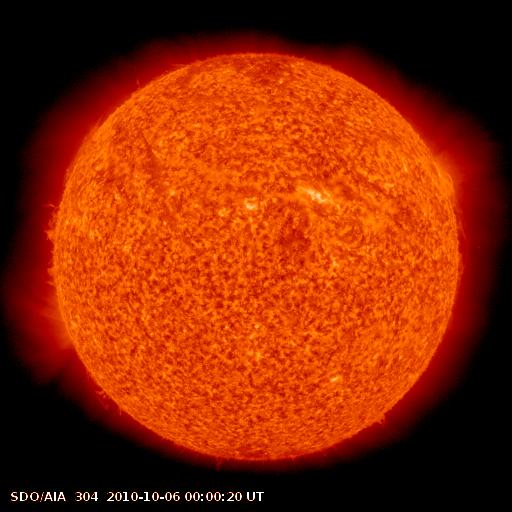prominence: (79, 369, 133, 431), (446, 185, 475, 293), (35, 198, 62, 304)
